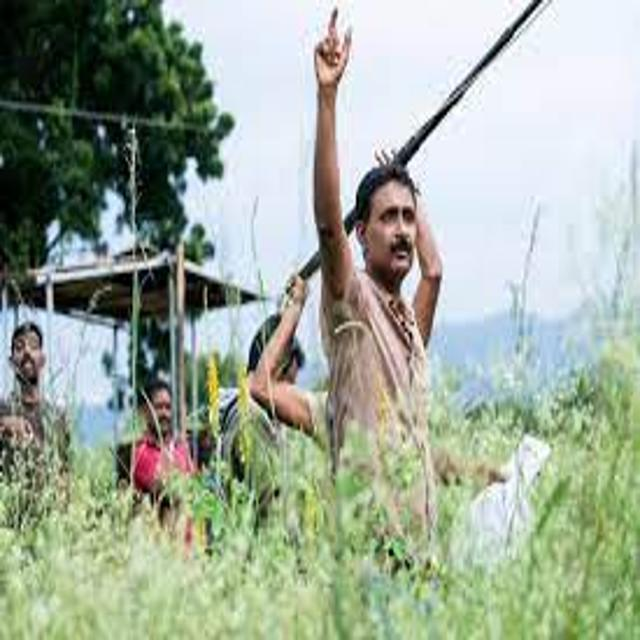poacher: (264, 1, 497, 630), (182, 291, 346, 560), (92, 347, 239, 587), (1, 296, 100, 565)
